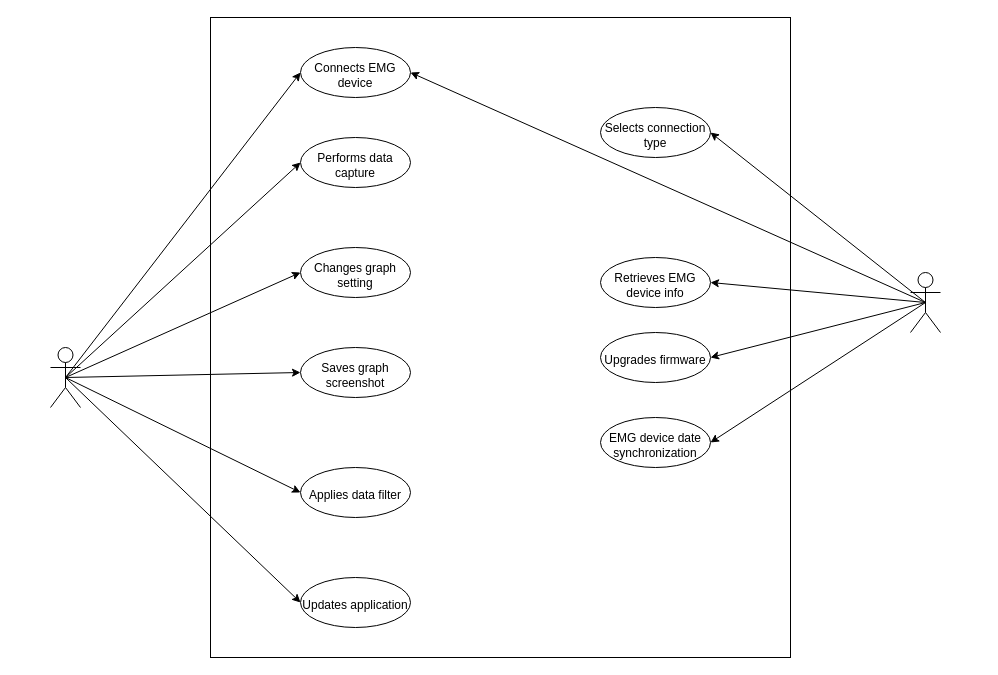
This 998x675 diagram has some shape labels left out. Each missing label, with the box of its shape:
Device Management System: (910, 272, 940, 332)
User (Private customer, Trainer, Nurse, Doctor): (50, 346, 80, 408)
